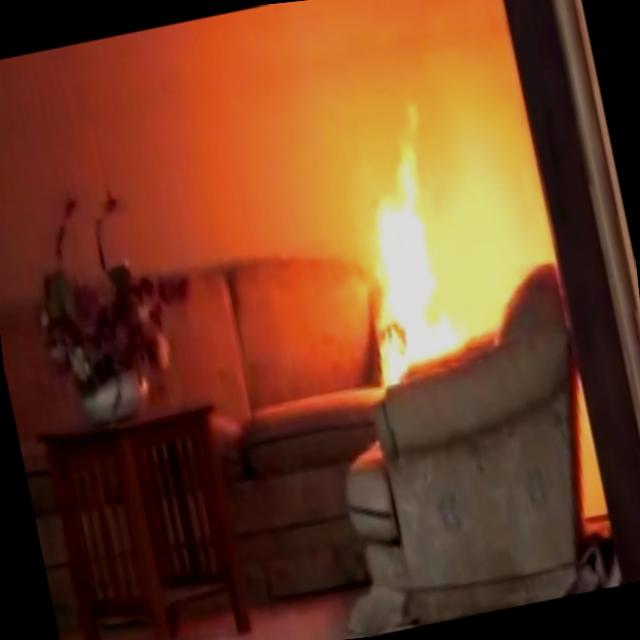fire: (327, 116, 502, 390)
